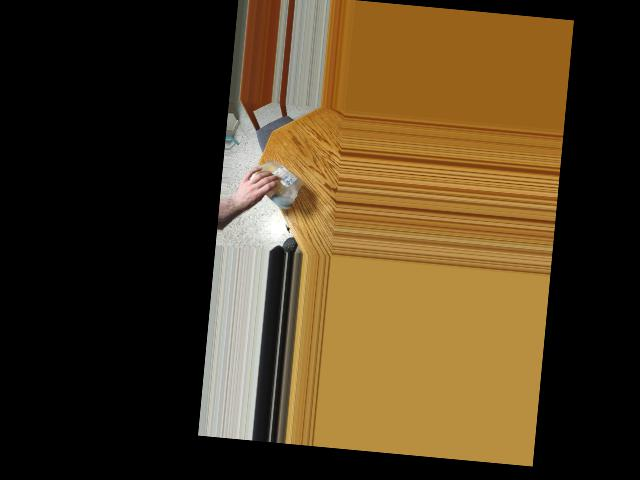cheese: (244, 156, 303, 207)
